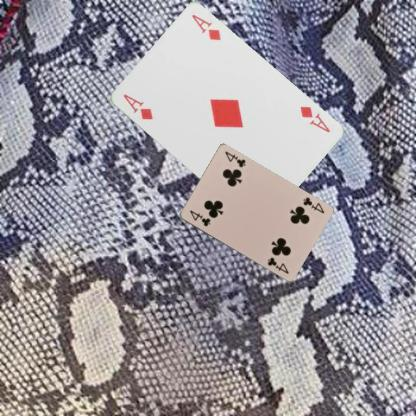4c: (186, 207, 212, 228), (300, 195, 325, 215)
Ad: (297, 103, 331, 134), (120, 92, 154, 121)
